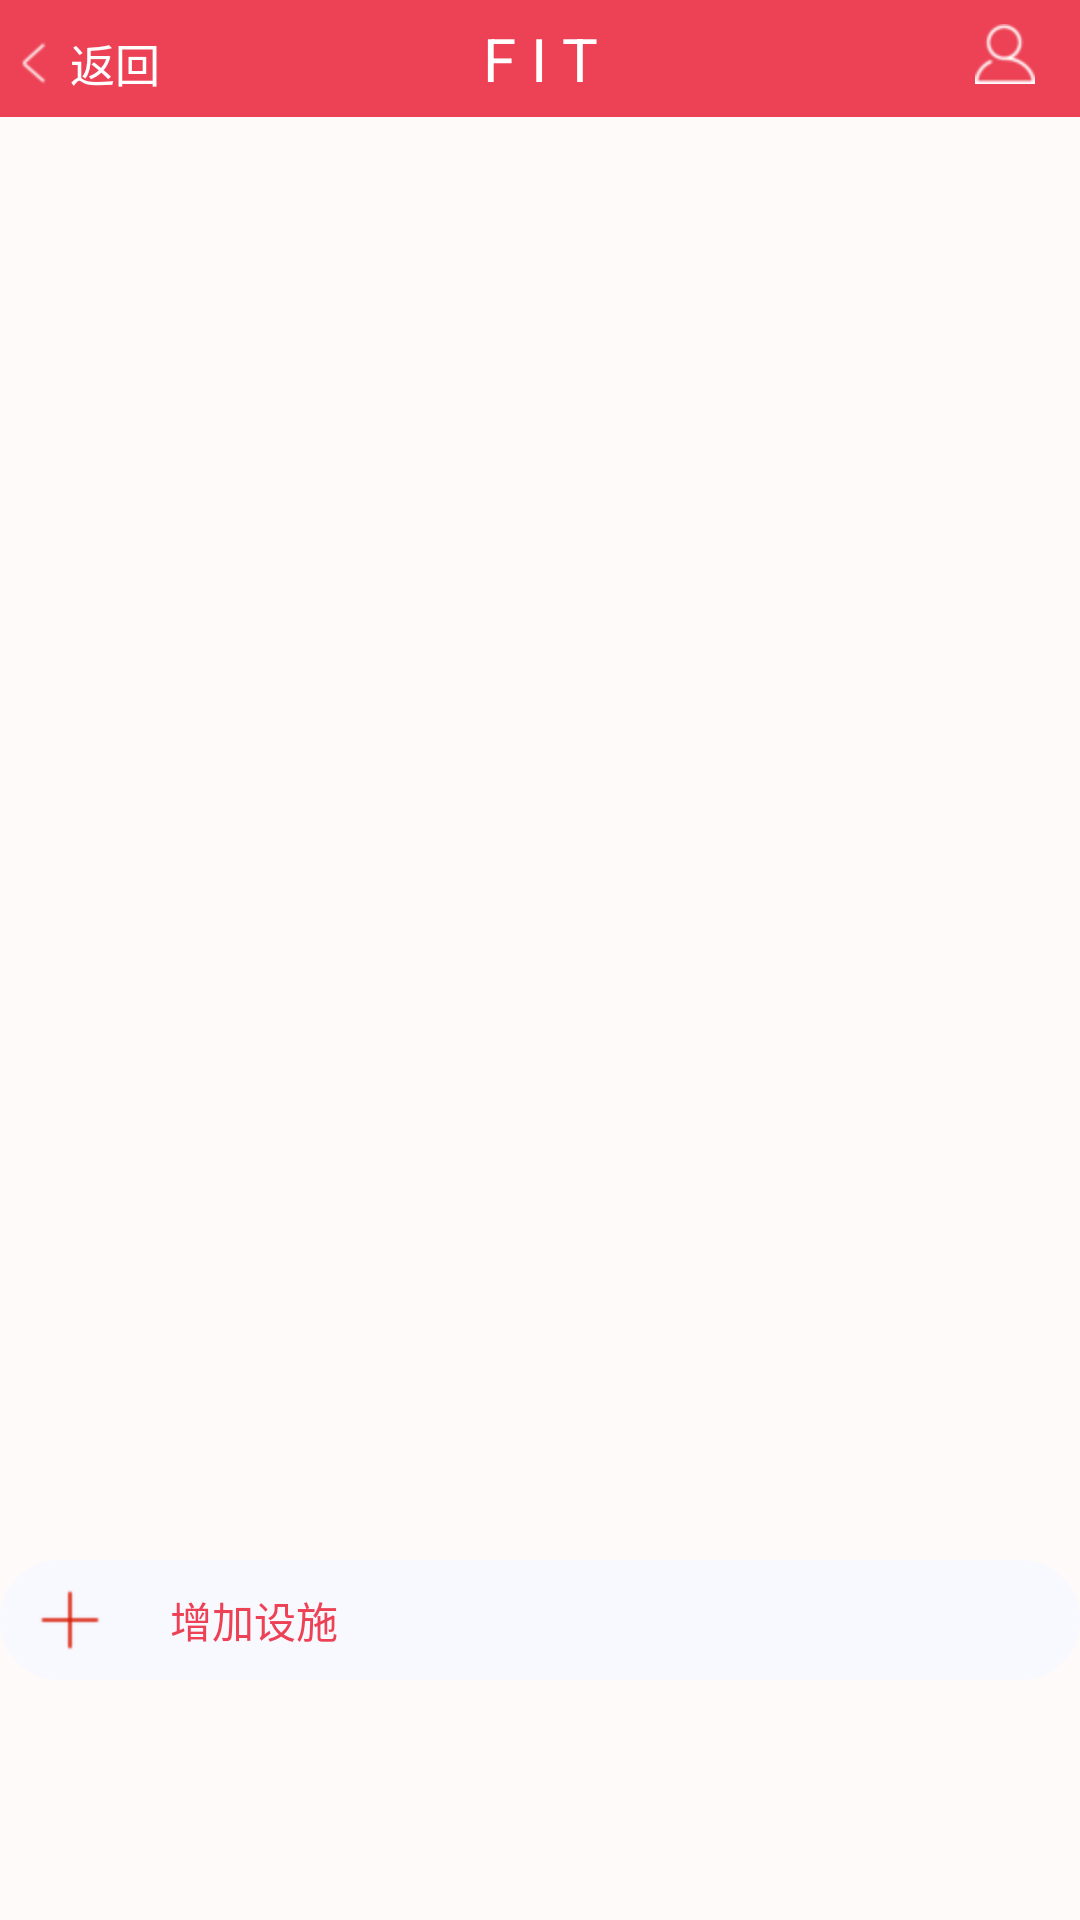

Icons on this 1080 x 1920 Android screen, each with its box as (x1, y1, x2, y2):
user: (975, 24, 1035, 84)
